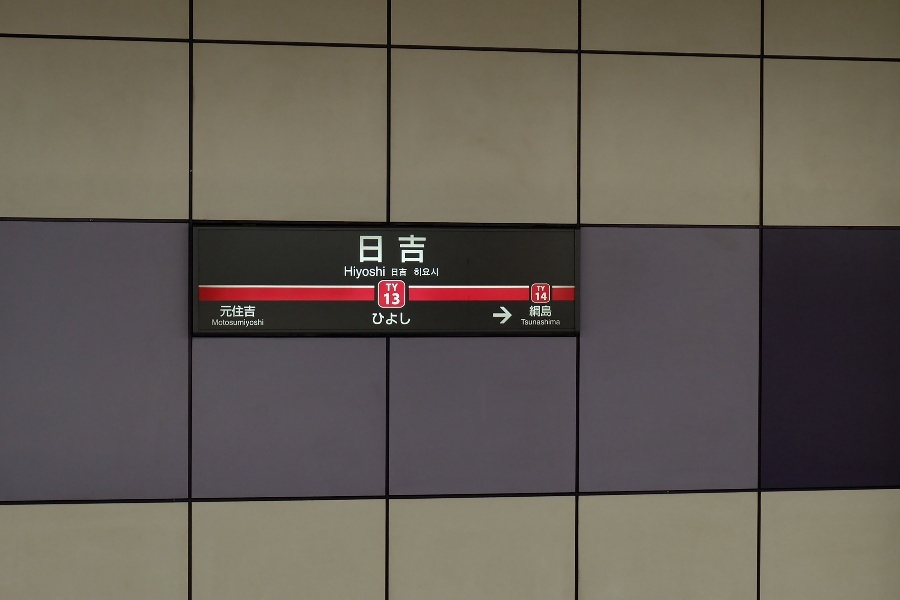text: (369, 235, 384, 263), (385, 235, 400, 263), (401, 235, 416, 263), (417, 235, 427, 263), (385, 311, 400, 326), (385, 292, 401, 306), (360, 235, 368, 263), (353, 265, 368, 279), (369, 265, 384, 279), (529, 304, 544, 318), (225, 305, 240, 318), (241, 305, 256, 318), (371, 311, 384, 326), (225, 318, 240, 328), (241, 318, 256, 328), (385, 282, 400, 292), (401, 311, 411, 326), (417, 267, 432, 277), (211, 318, 224, 328), (343, 265, 352, 279), (529, 318, 544, 326), (545, 318, 560, 326), (545, 304, 553, 318), (257, 318, 266, 328), (535, 292, 544, 302), (392, 268, 400, 277), (520, 318, 528, 326), (401, 268, 408, 277), (535, 285, 544, 292), (433, 267, 439, 277), (220, 305, 224, 318), (545, 292, 548, 302), (414, 267, 416, 277), (385, 265, 386, 279), (561, 318, 562, 326), (545, 285, 546, 292)
